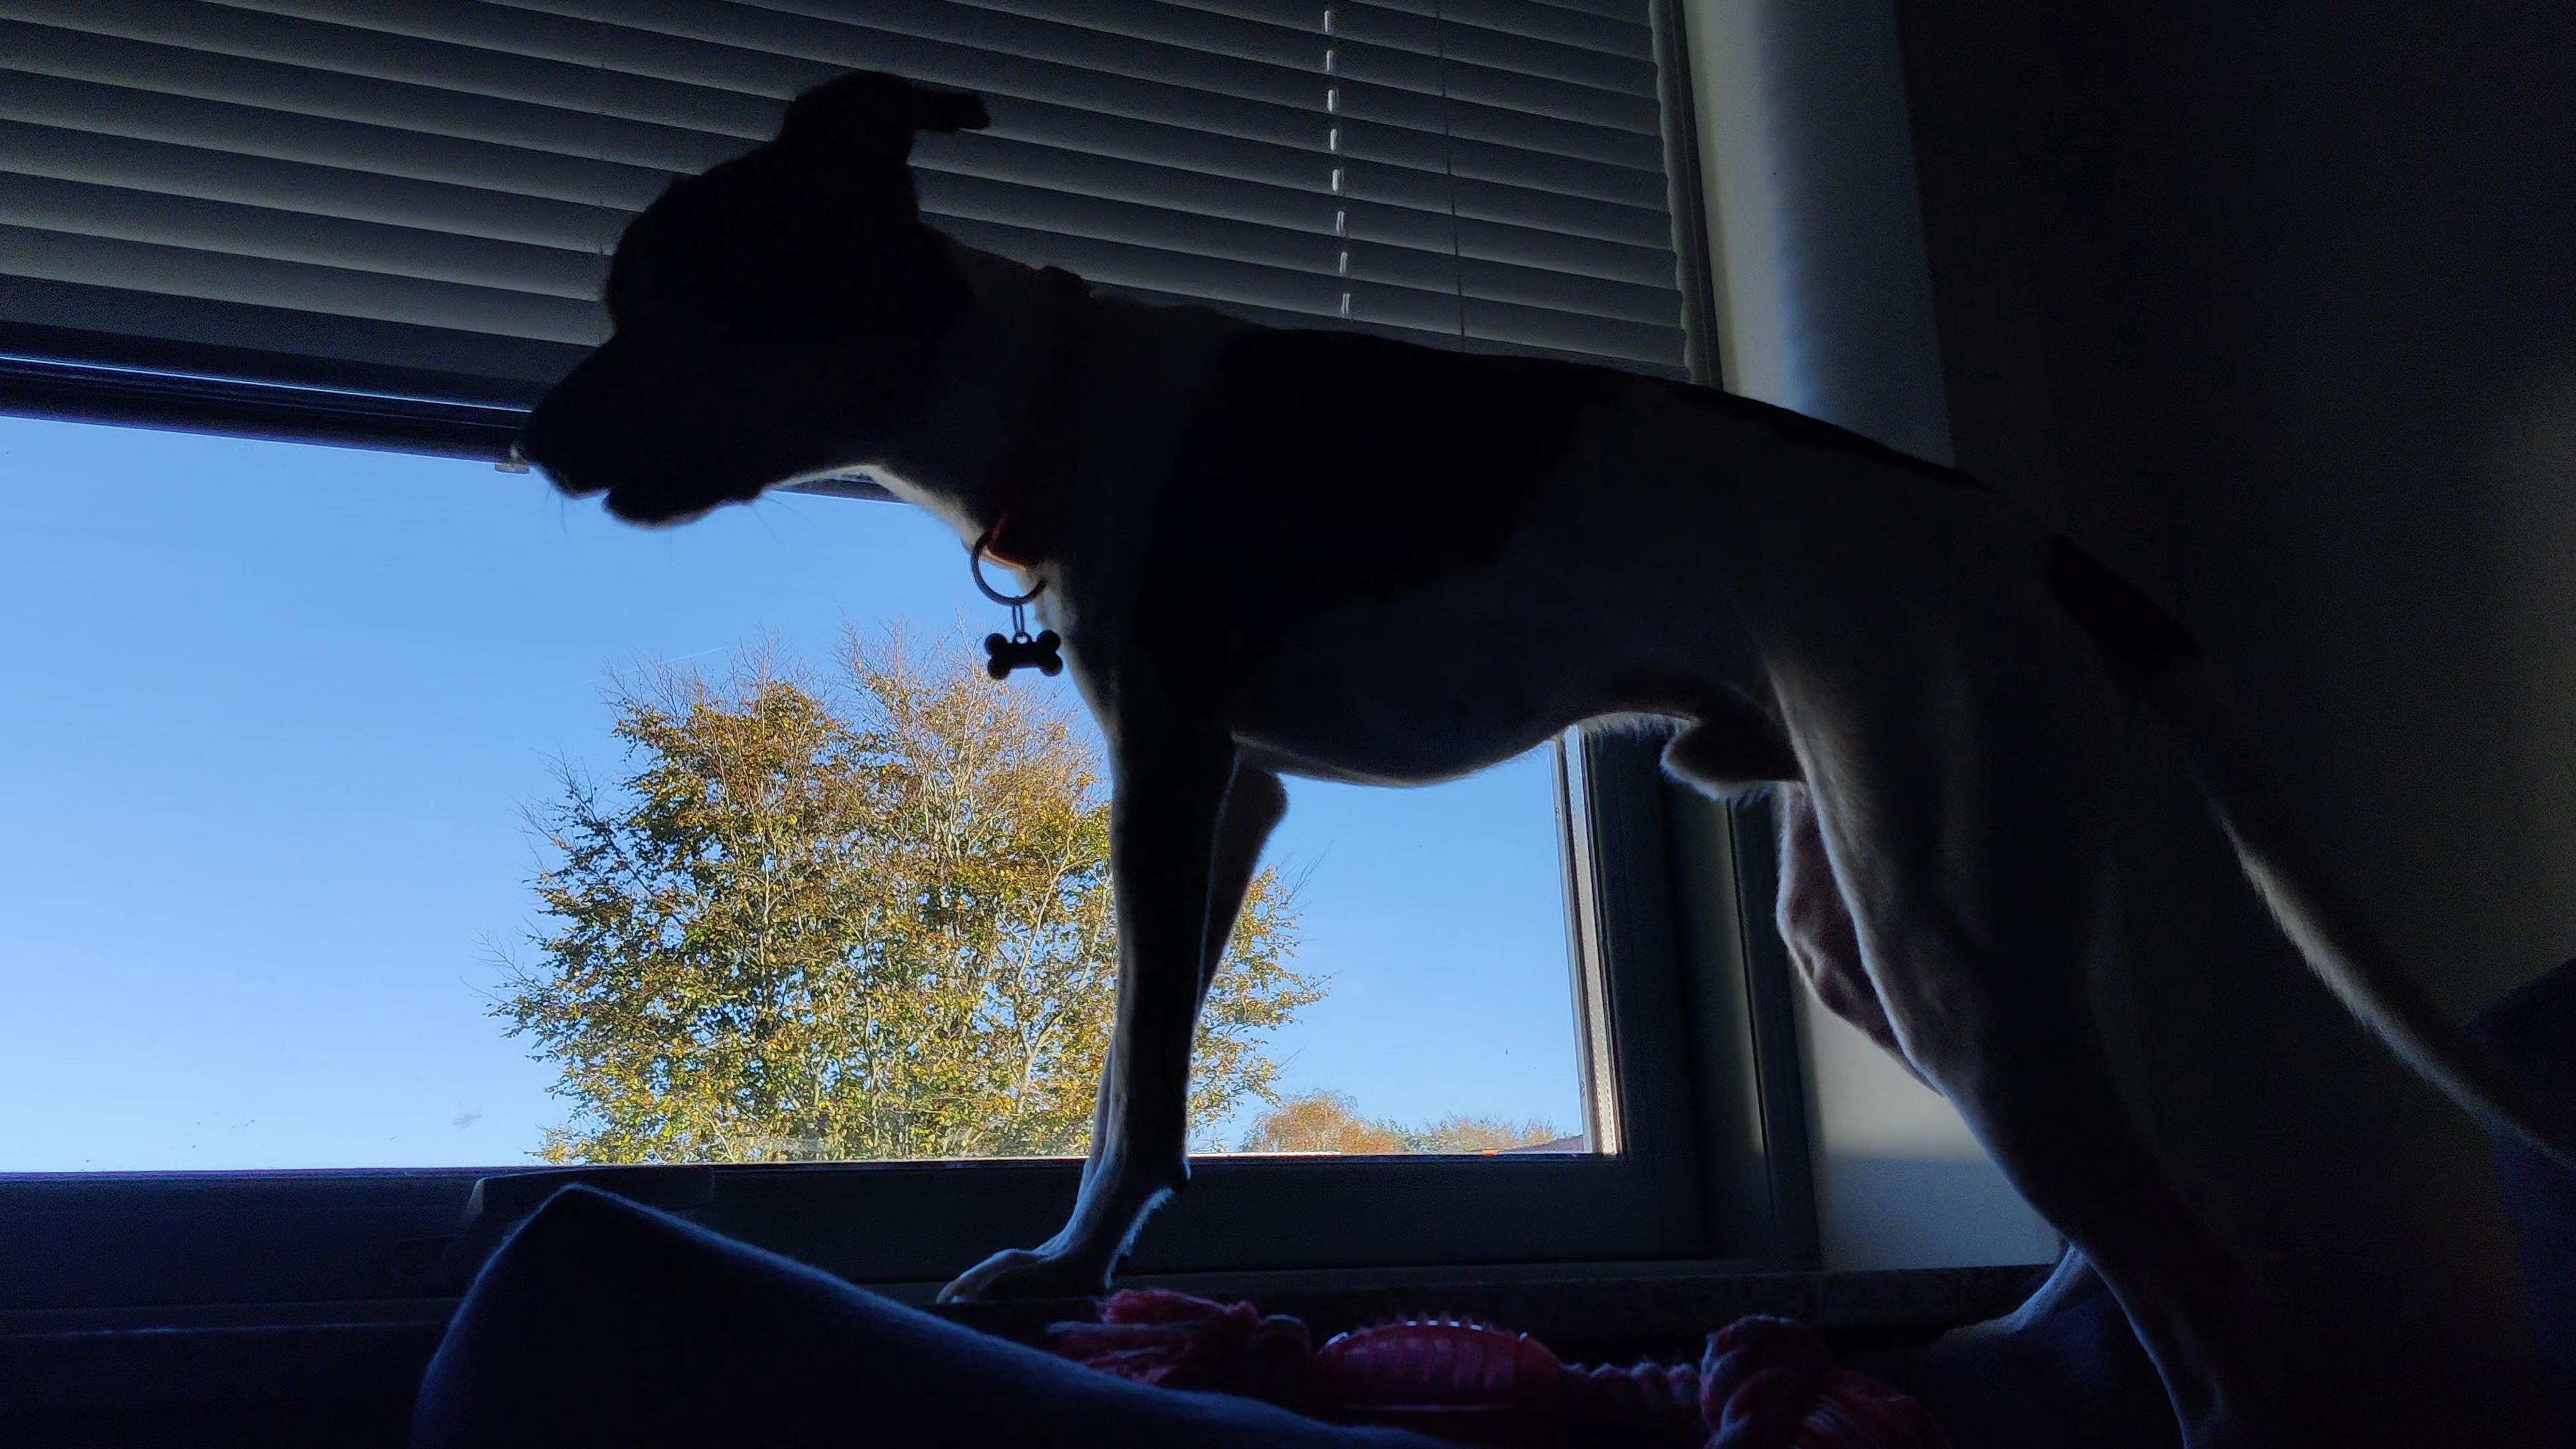Dog: (518, 65, 2576, 1449)
